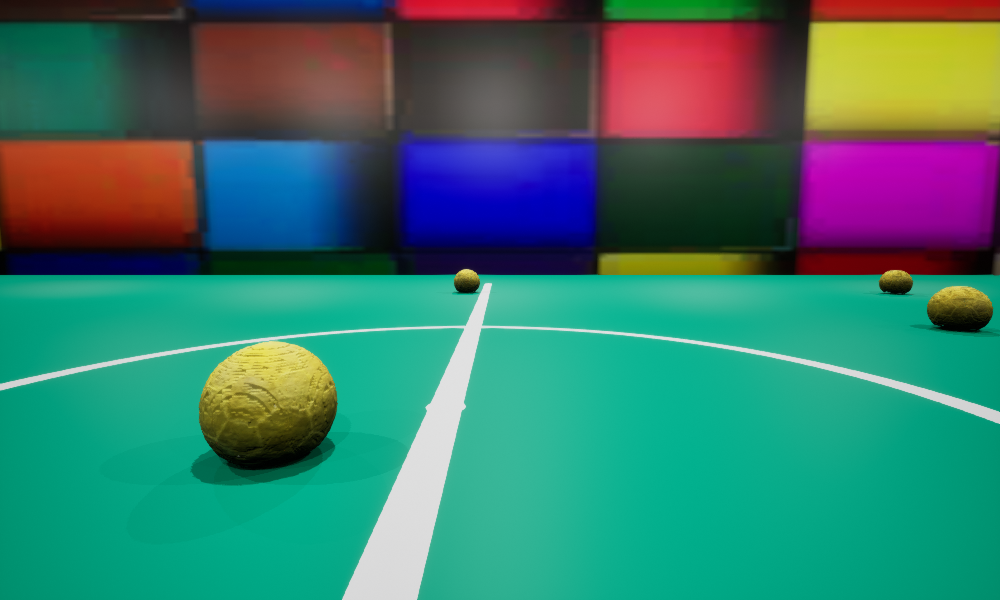b: (199, 341, 337, 468), (927, 286, 992, 330), (879, 270, 912, 293), (454, 269, 479, 292)
